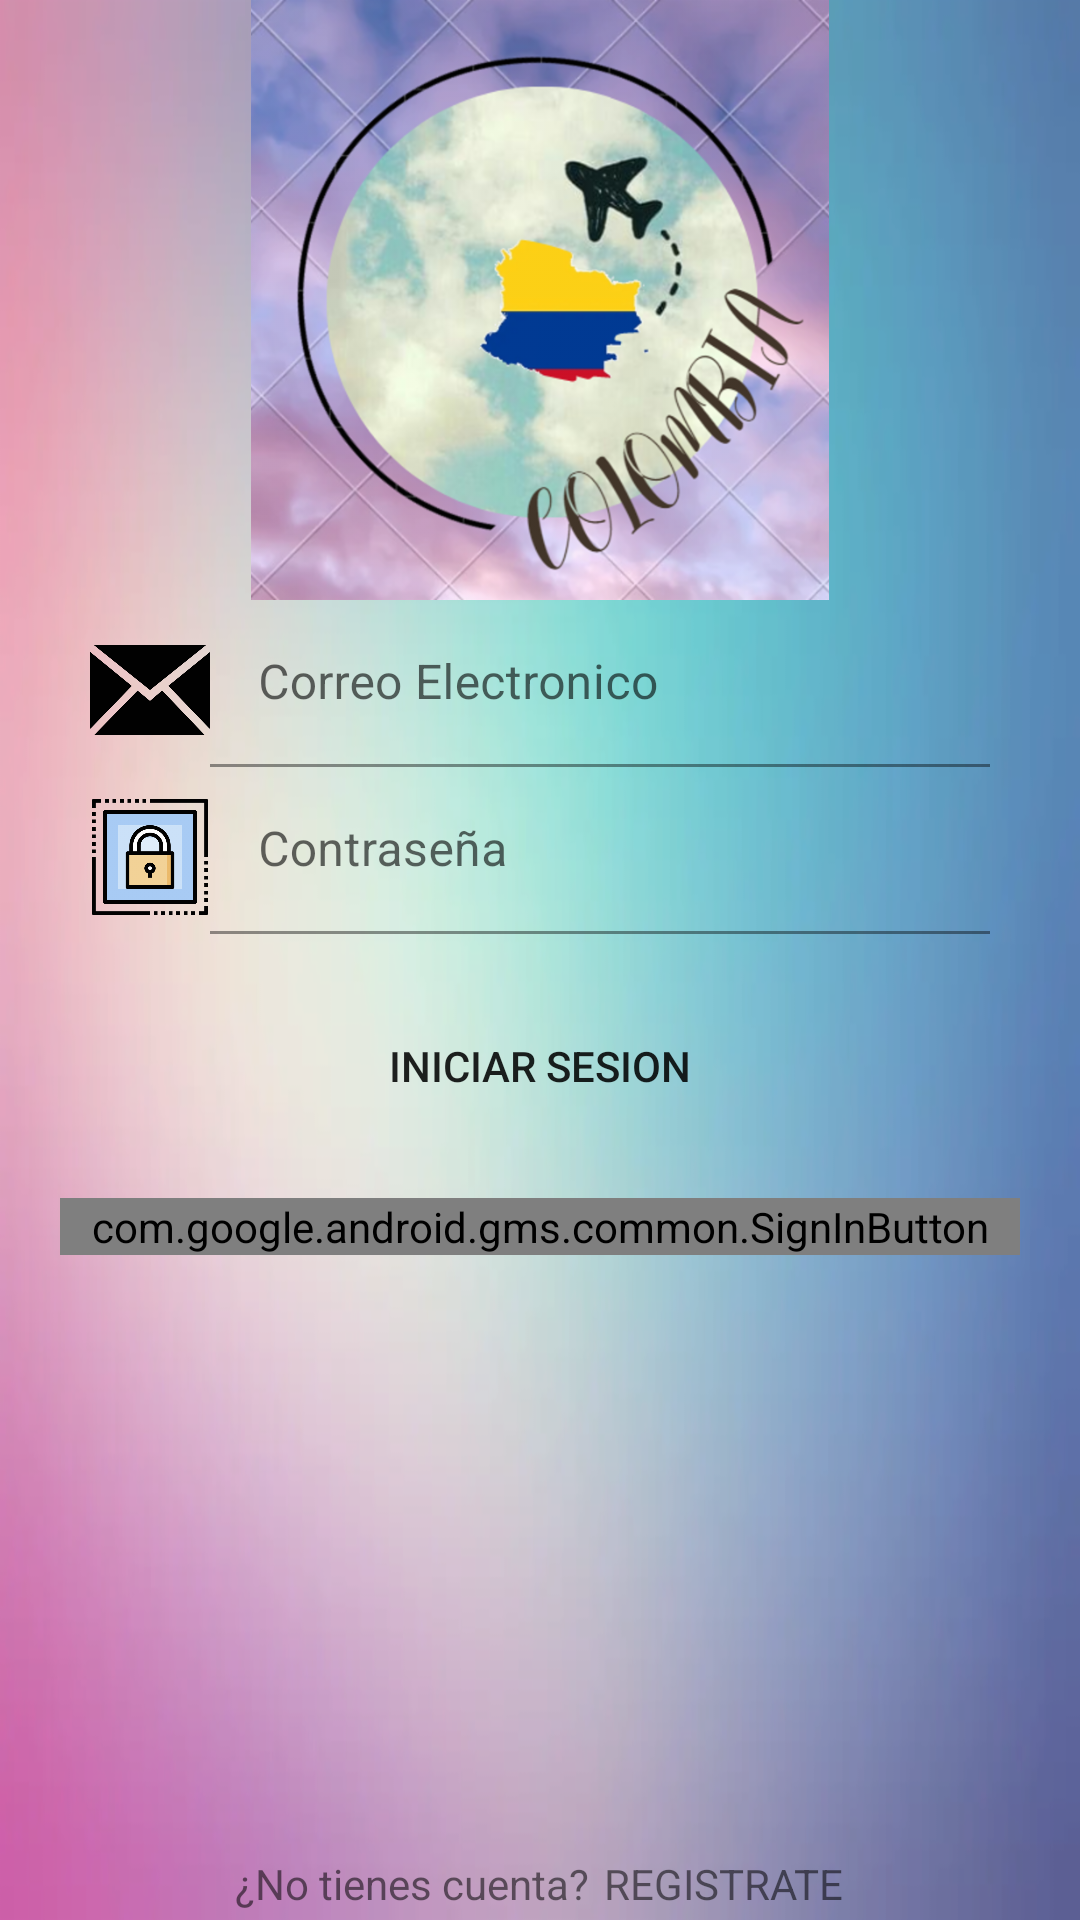

Icon click points for this 1080x1920 phone screenshot, format (x,y):
password: (155,857)
